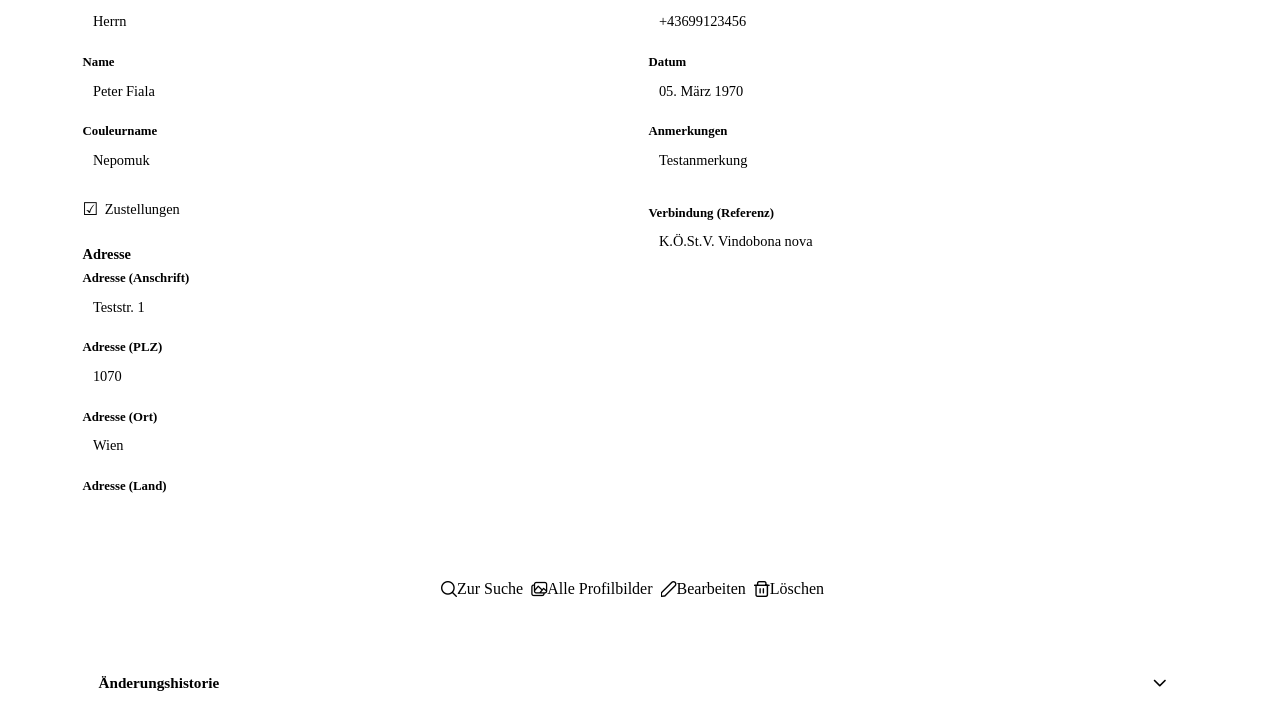
Test case: ContactShowView › regression: loads the changelog again after "Erneut versuchen"
(page scrolled)
Click the button with class "changelog-header" at (159, 683), box [82,662,1182,703]
(page scrolled)
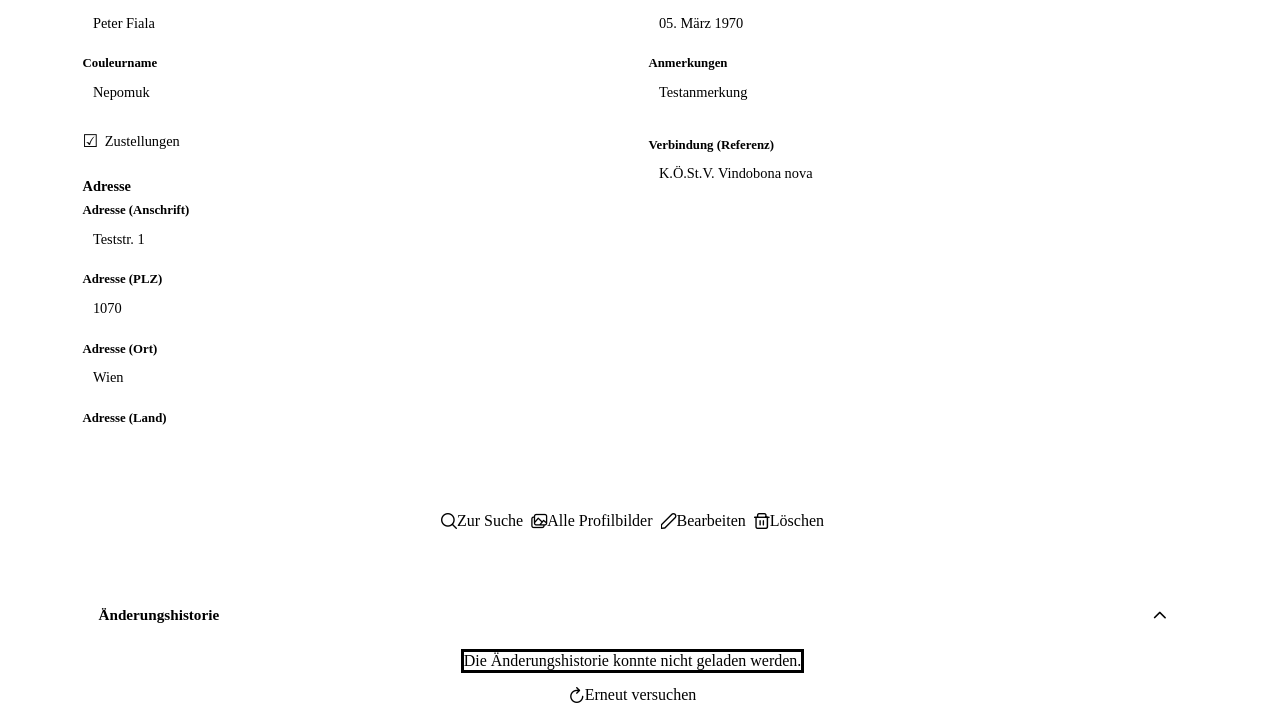
Click the button "Erneut versuchen" at (632, 695), box [569,686,696,703]
(page scrolled)
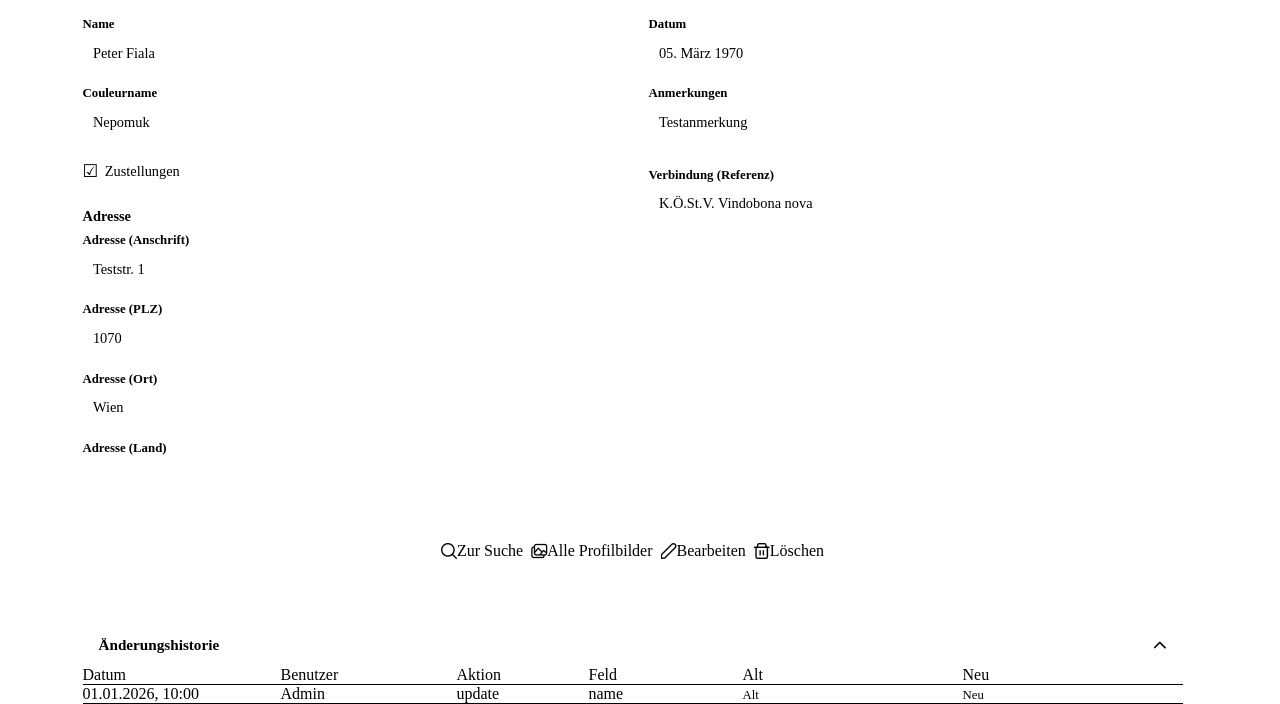
expect the text "konnte nicht geladen werden" is gone: met
expect the text "Admin" is shown: met, box [280,685,456,703]
